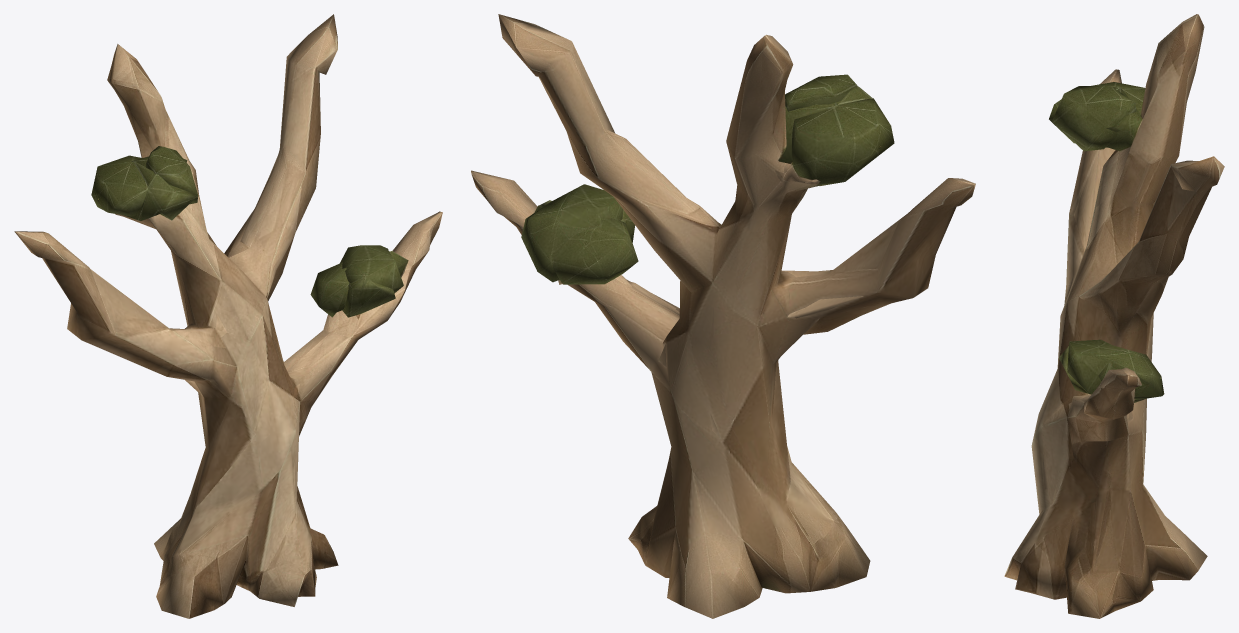
The model's file is AW-MARSH-TREE-002-v0.2.glb.
3 renders of one model, left to right at view 1: azimuth 30°, elevation 25°; view 2: azimuth 150°, elevation 25°; view 3: azimuth 270°, elevation 25°, orthographic. The views are drawn at different scales.
Visible parts, largest first — view 1: AW-MARSH-TREE-002_meter_ground_pivot; view 2: AW-MARSH-TREE-002_meter_ground_pivot; view 3: AW-MARSH-TREE-002_meter_ground_pivot.
Part boxes in pixels (<box>): AW-MARSH-TREE-002_meter_ground_pivot: <box>14,14,442,618</box>; AW-MARSH-TREE-002_meter_ground_pivot: <box>471,14,975,618</box>; AW-MARSH-TREE-002_meter_ground_pivot: <box>1004,14,1224,618</box>.
Size of the model in its own units: 2.82 by 3.2 by 1.23.
Materials: 1 (1 with a texture image).
